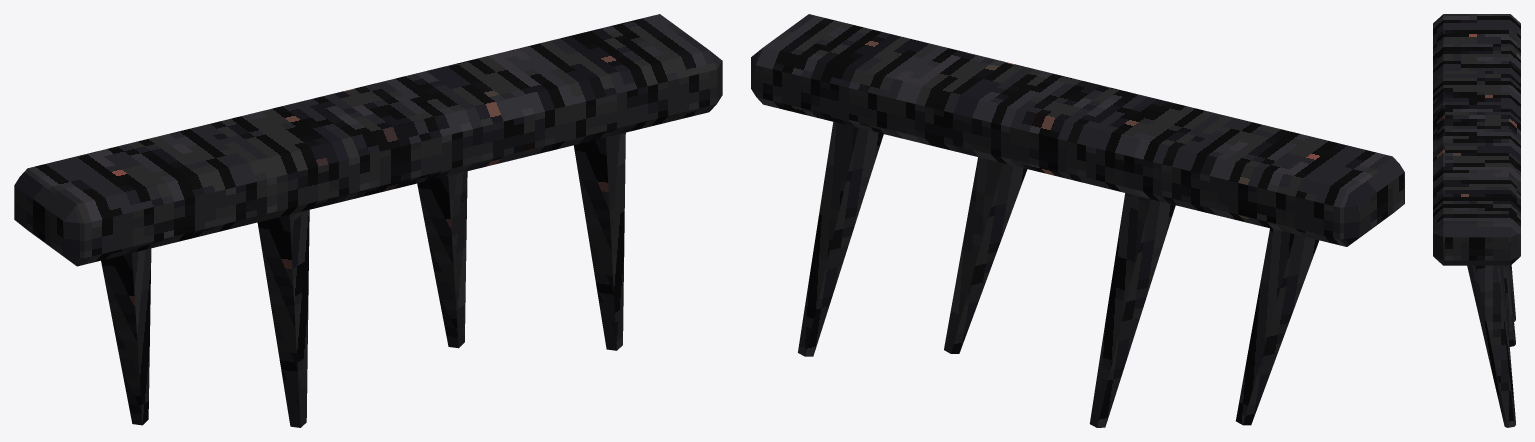
The model's file is beira_reta.glb.
The picture shows the model from 3 angles, left to right: view 1: azimuth 30°, elevation 25°; view 2: azimuth 150°, elevation 25°; view 3: azimuth 270°, elevation 25°; orthographic projection. The views are drawn at different scales.
Visible parts, largest first — view 1: vulcao_beira_reta; view 2: vulcao_beira_reta; view 3: vulcao_beira_reta.
Part boxes in pixels (x1=…): vulcao_beira_reta: x1=14, y1=14, x2=722, y2=427; vulcao_beira_reta: x1=751, y1=14, x2=1404, y2=427; vulcao_beira_reta: x1=1433, y1=14, x2=1520, y2=427.
Bounding box in the file's own units: 1 × 0.4671 × 0.17.
Materials: 1 (1 with a texture image).
